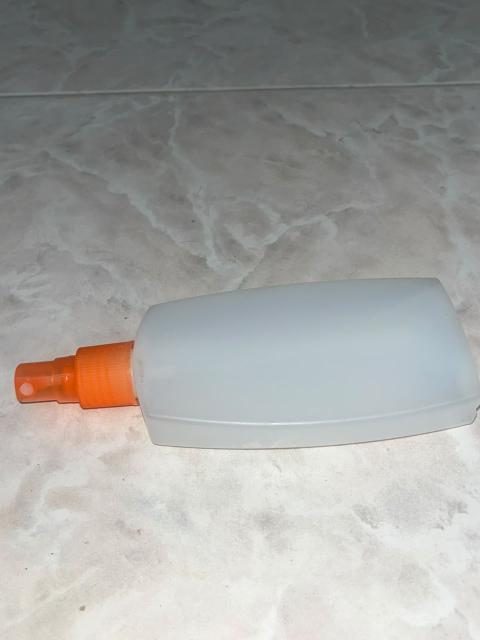HDPE: (0, 242, 480, 483)
